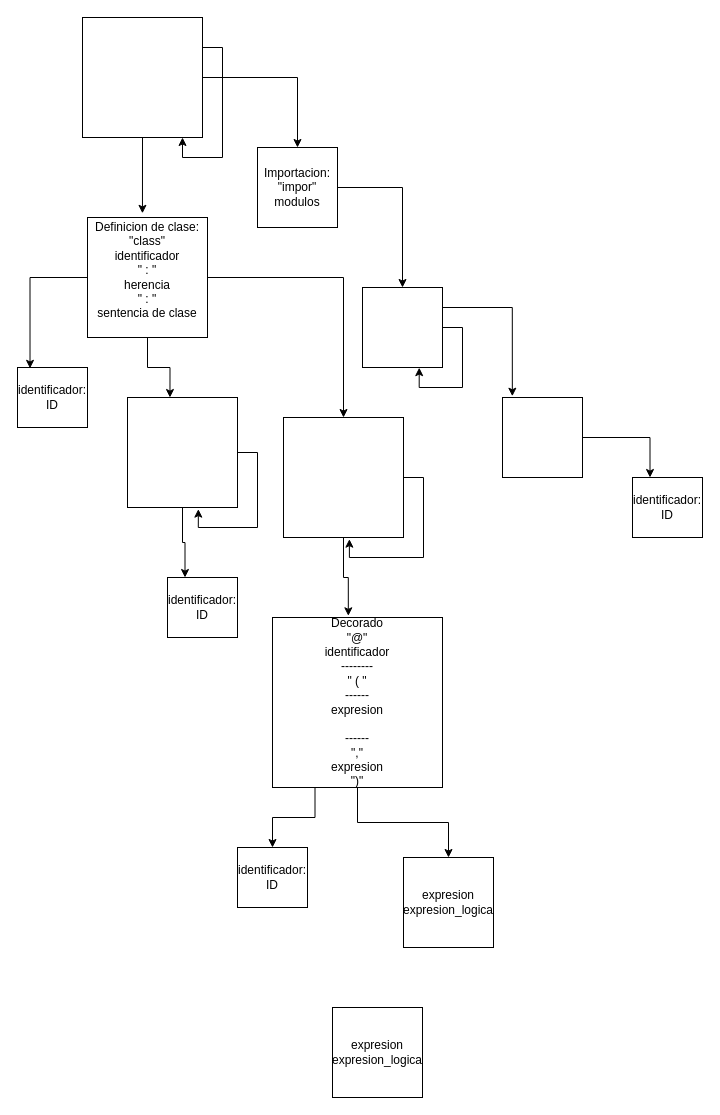
Some shapes in this 720 by 1115 pixel diagram are drawn without their labels. The centre of each missing label's shape, as x and y in pixels:
(sentencia de clase)* decorado identificador identificador metodo propiedad: point 343,477
Herencia: "(" identificador (" , " identificador)* ")": point 182,452
Modulo: Identificador "as" Identificador: point 542,437
Modulos: modulo "," modulo: point 402,327
Raiz: Importacion, Definicion_Calse fucion sentencia: point 142,77
